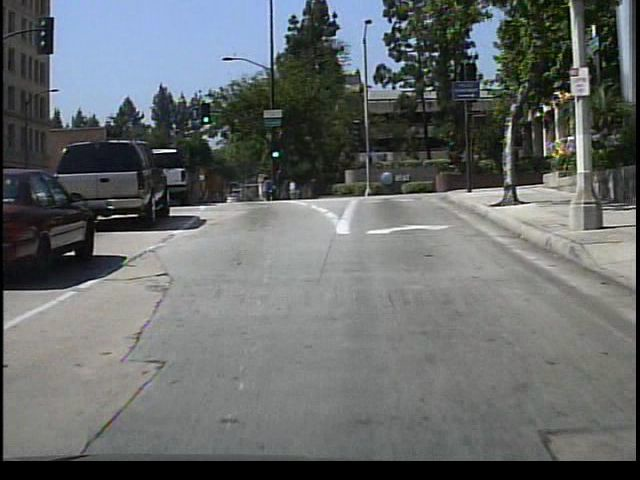person: (258, 170, 278, 204), (286, 175, 301, 202)
